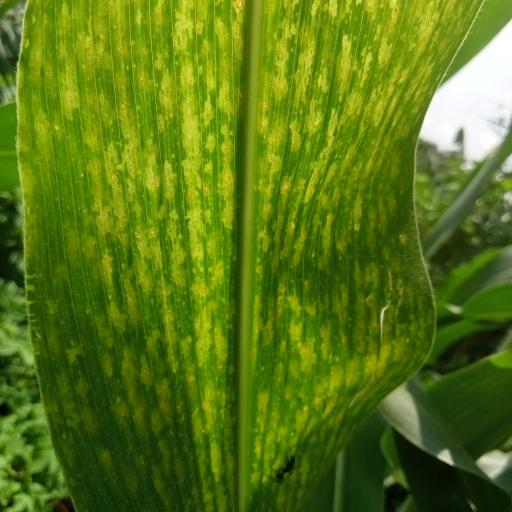Corn_Brown_Spots: (24, 2, 464, 512)
